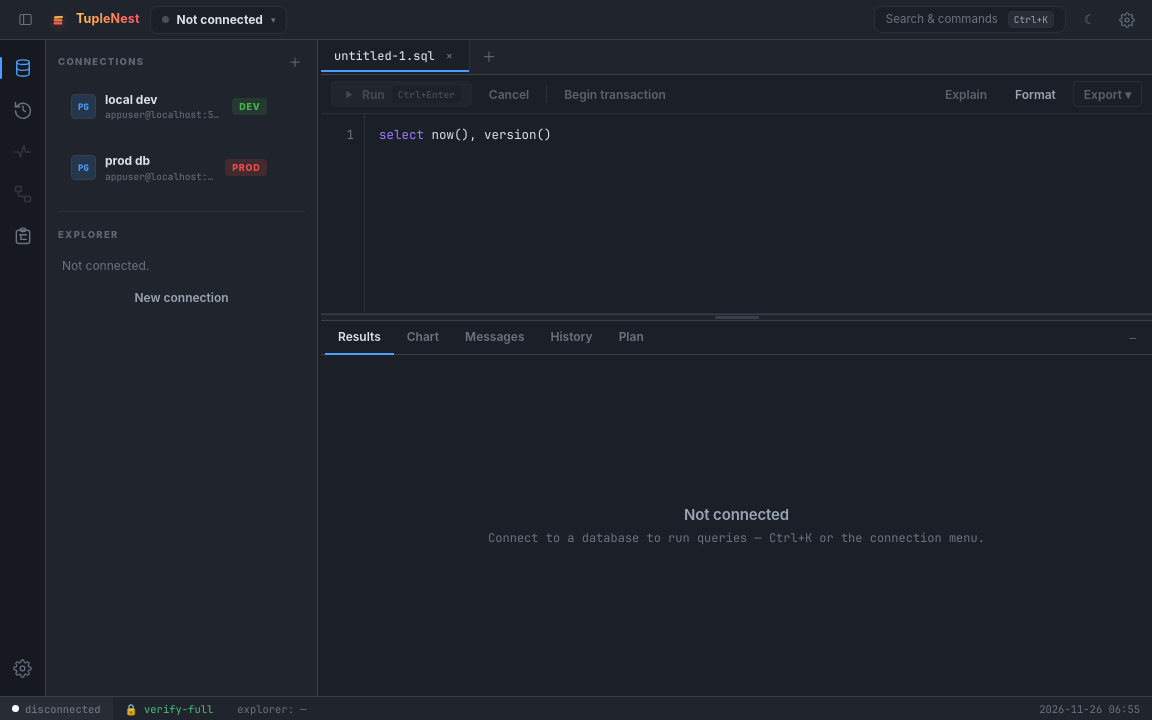
Test: App — the connection form › says why the connection failed when saving and connecting
Check: the text "local dev" is shown, box x1=105 y1=91 x2=158 y2=108
What coordinates should you click on to do the following:
click the button with class "conn-open" that starts with "local dev"
I would click on:
 (169, 107)
Its box is x1=63 y1=84 x2=275 y2=129.
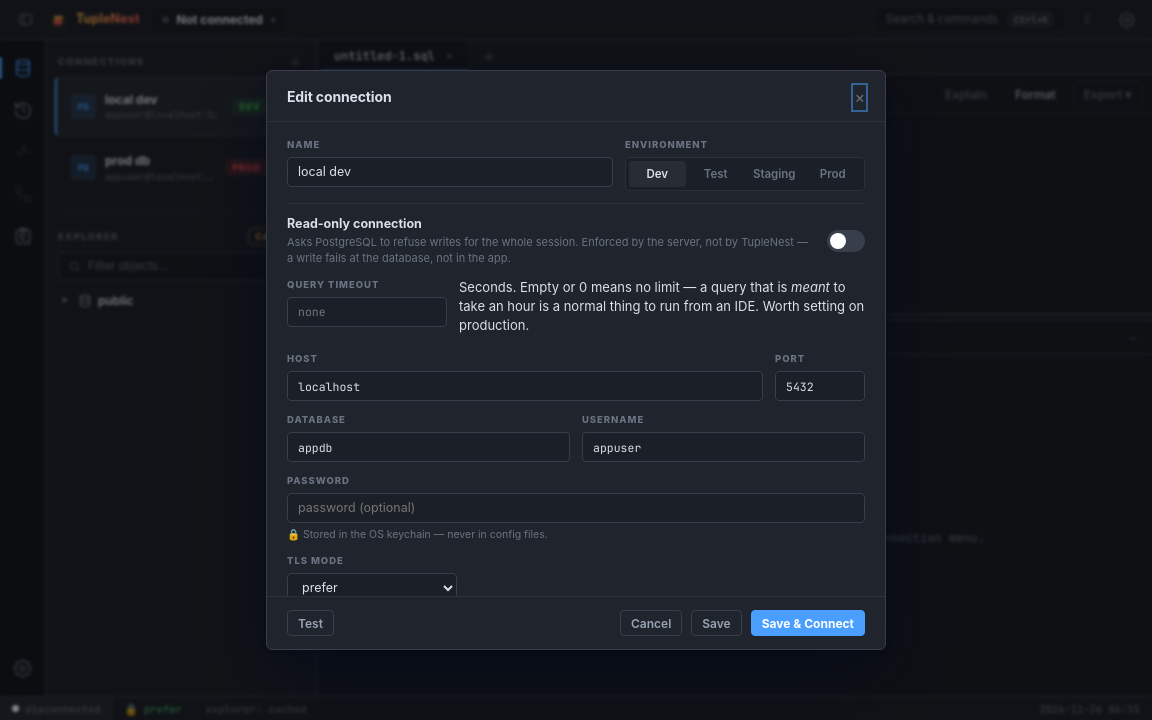
Check: the button "Save & Connect" is shown
What coordinates should you click on to do the following:
click the button "Save & Connect"
I would click on:
 (808, 623)
Its box is x1=751 y1=610 x2=865 y2=636.
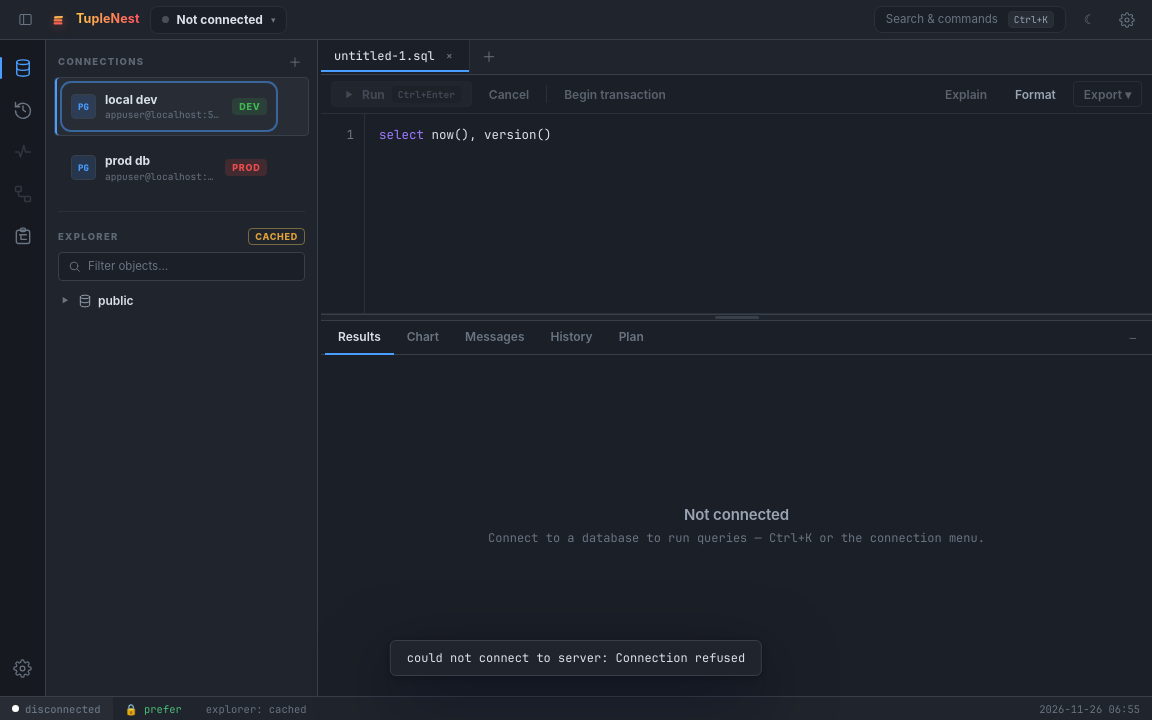
Check: the text "Not connected" next to "TupleNest" is shown, box x1=177 y1=12 x2=263 y2=27
Check: the text "could not connect to server: Connection refused" is shown, box x1=390 y1=640 x2=762 y2=676
